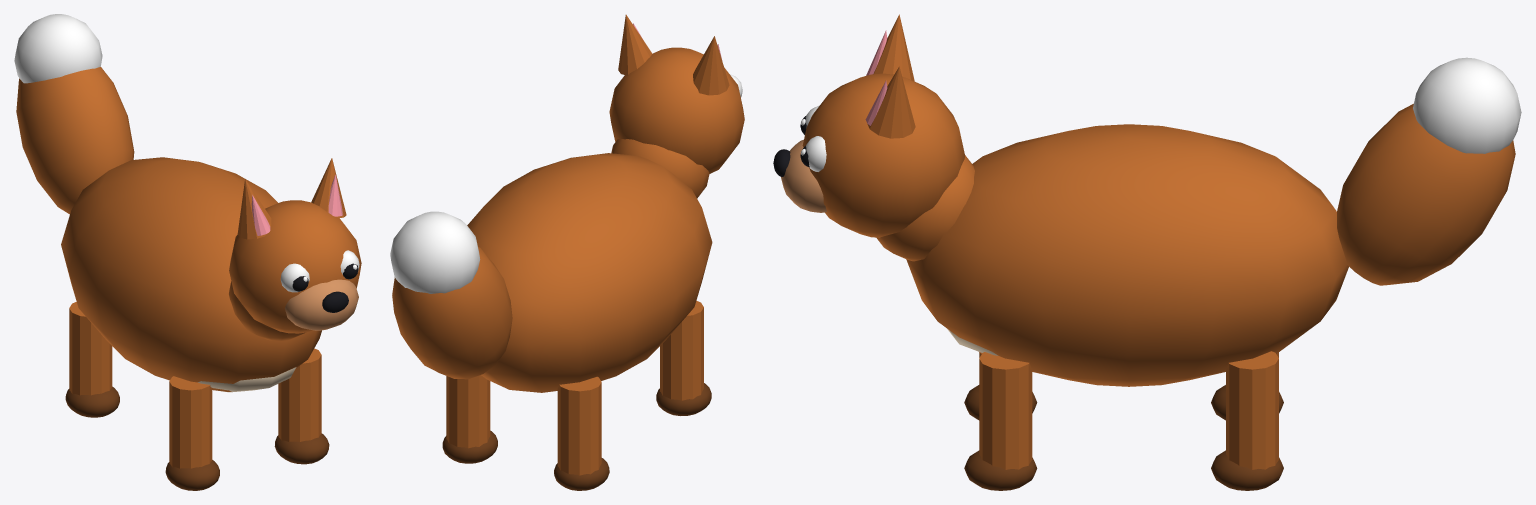
The picture shows the model from 3 angles, left to right: view 1: azimuth 30°, elevation 25°; view 2: azimuth 150°, elevation 25°; view 3: azimuth 270°, elevation 25°; orthographic projection. The views are drawn at different scales.
Visible parts, largest first — view 1: Squirrel; view 2: Squirrel; view 3: Squirrel.
Part boxes in pixels (x1,y1,x2,y2): Squirrel: (14, 14, 361, 490); Squirrel: (390, 14, 744, 490); Squirrel: (773, 14, 1521, 490).
Bounding box in the file's own units: 1.7 × 2.75 × 4.5.
Materials: 1 (1 with a texture image).
